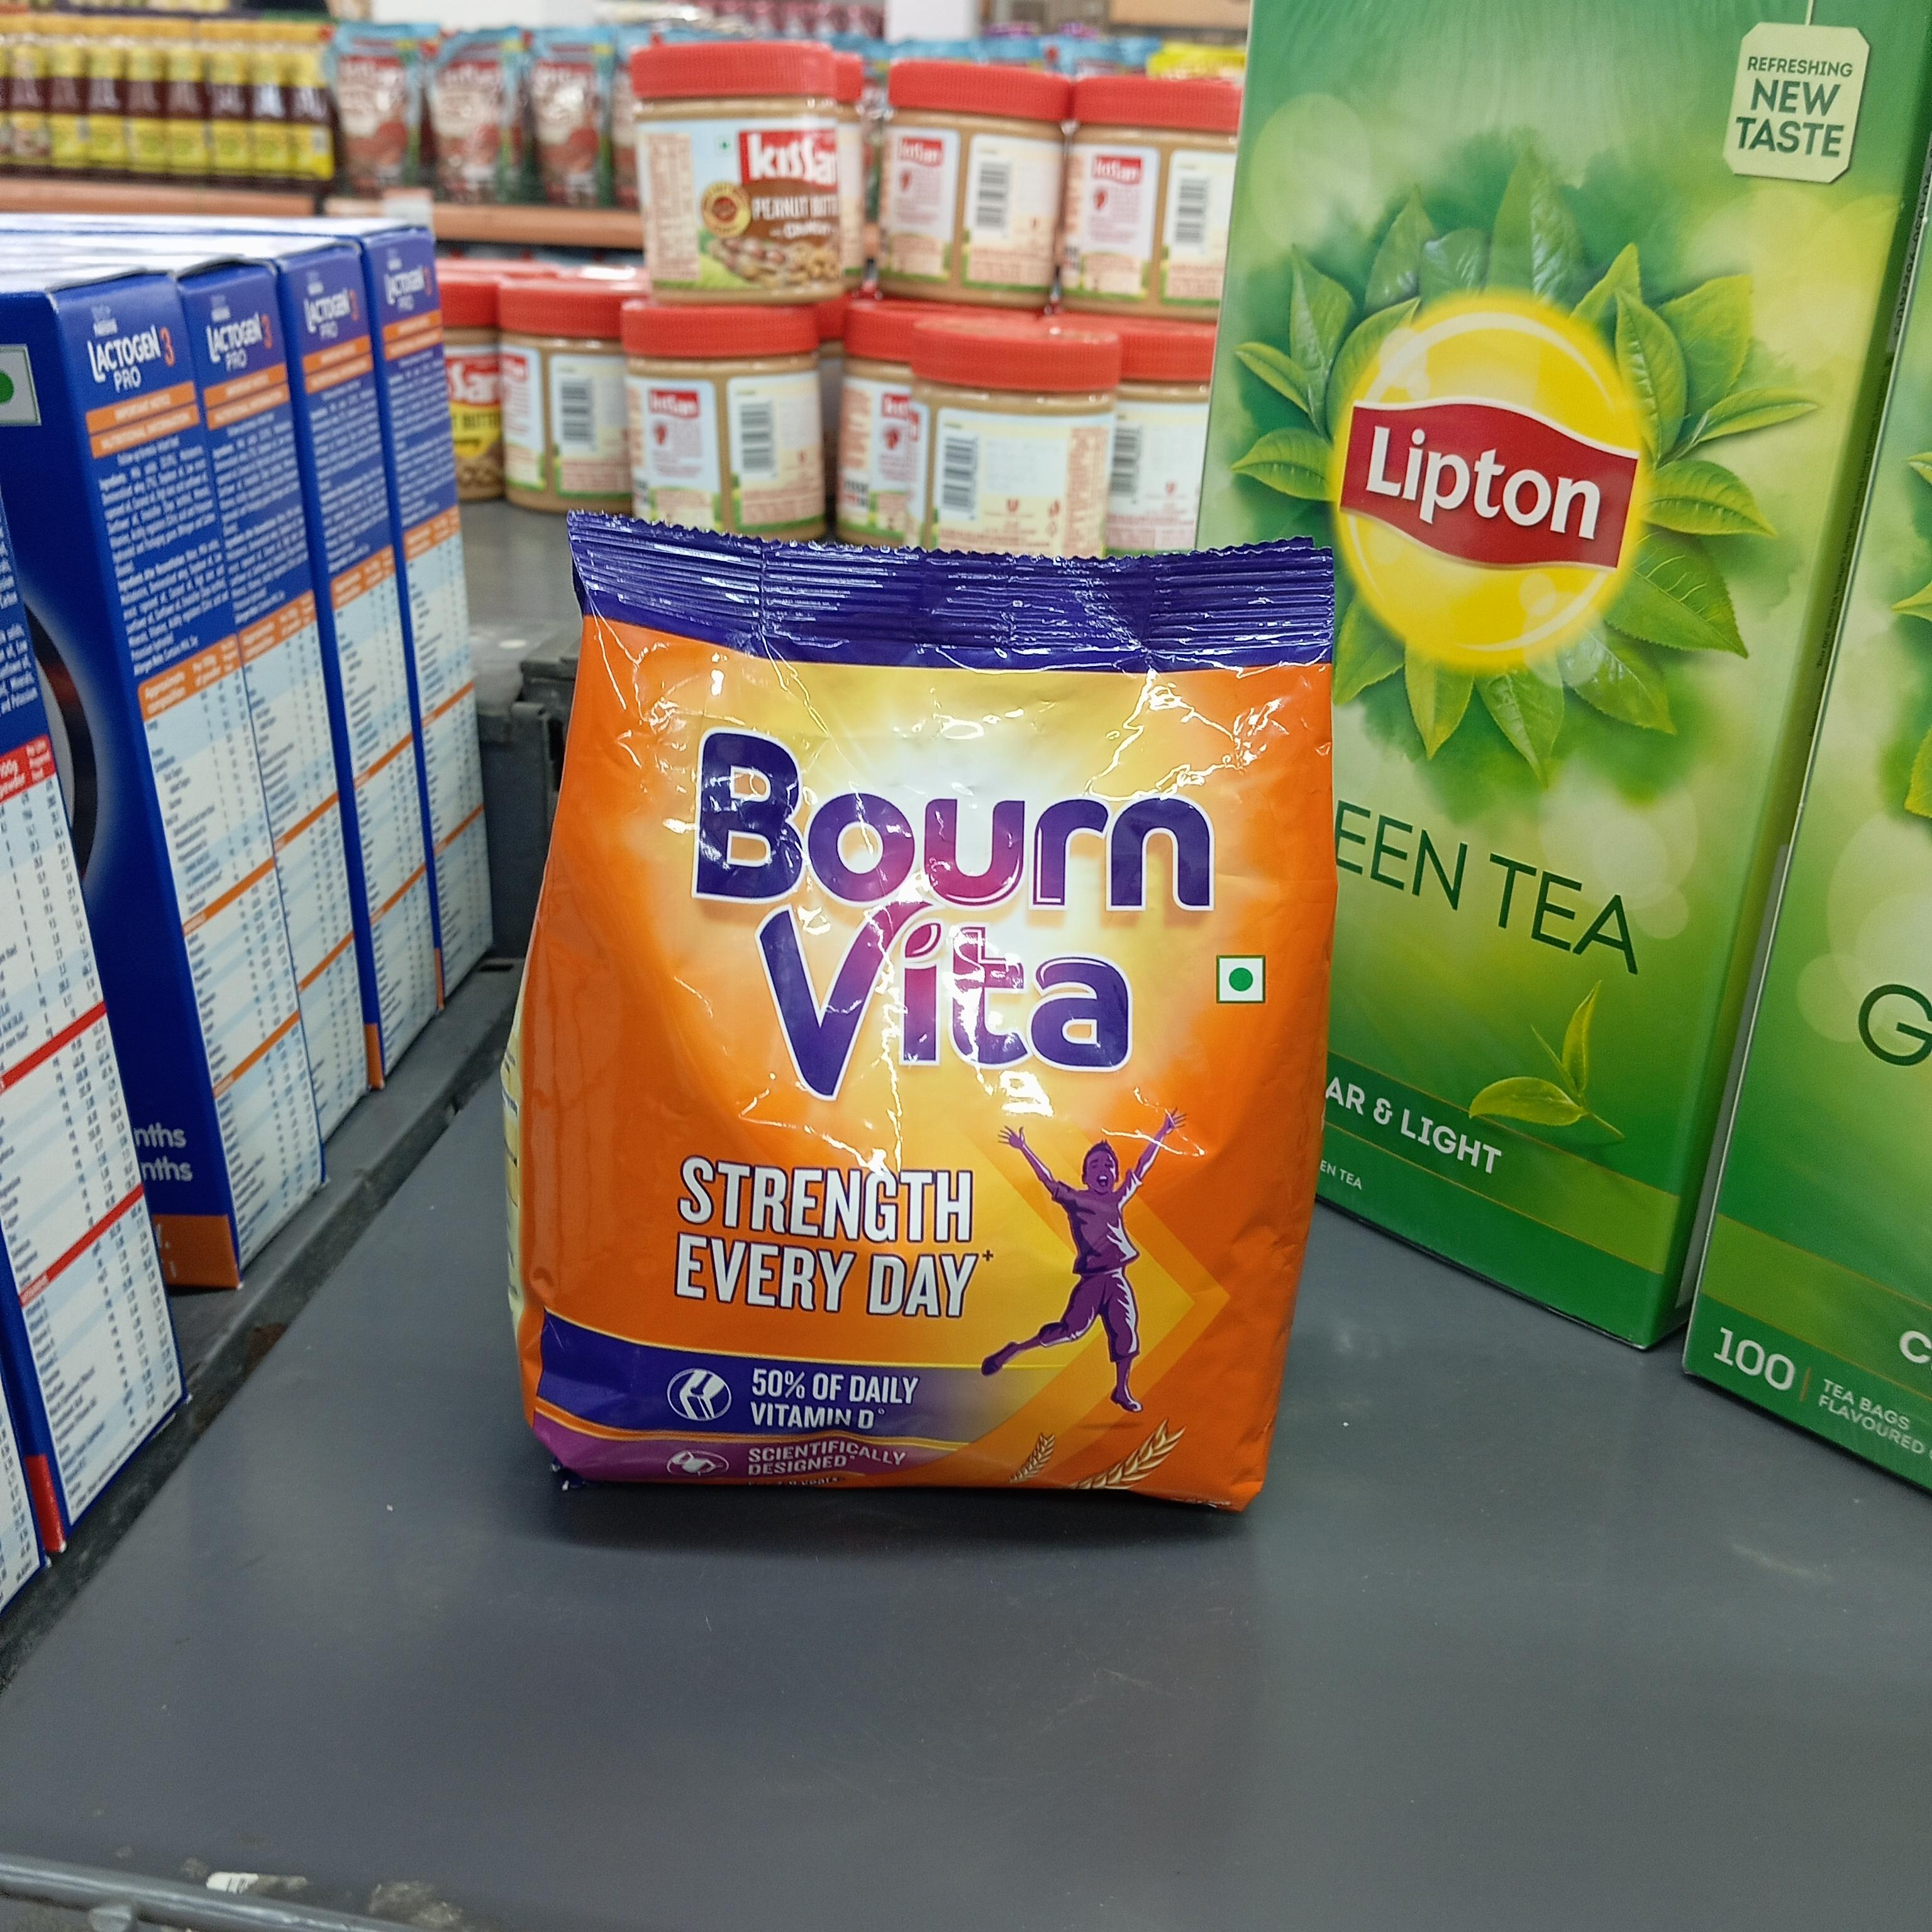BOURN_VITA_500_G_POUCH: (541, 502, 1272, 1511)
